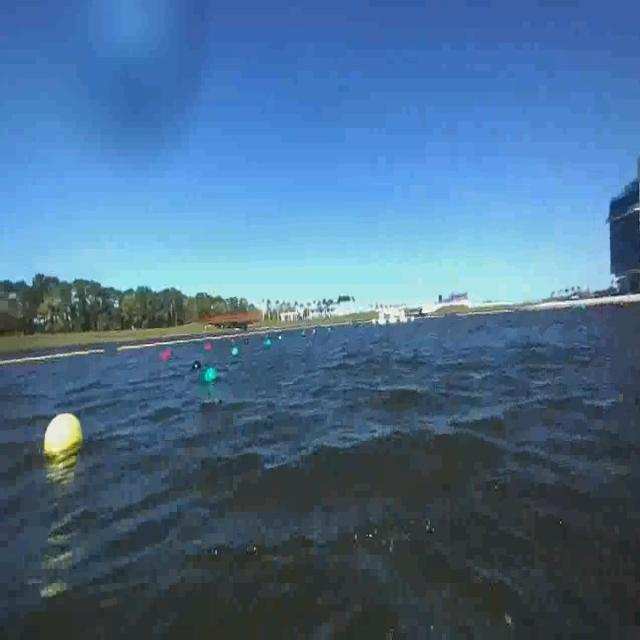green-buoy: (202, 366, 218, 384)
yellow-buoy: (46, 413, 86, 460)
